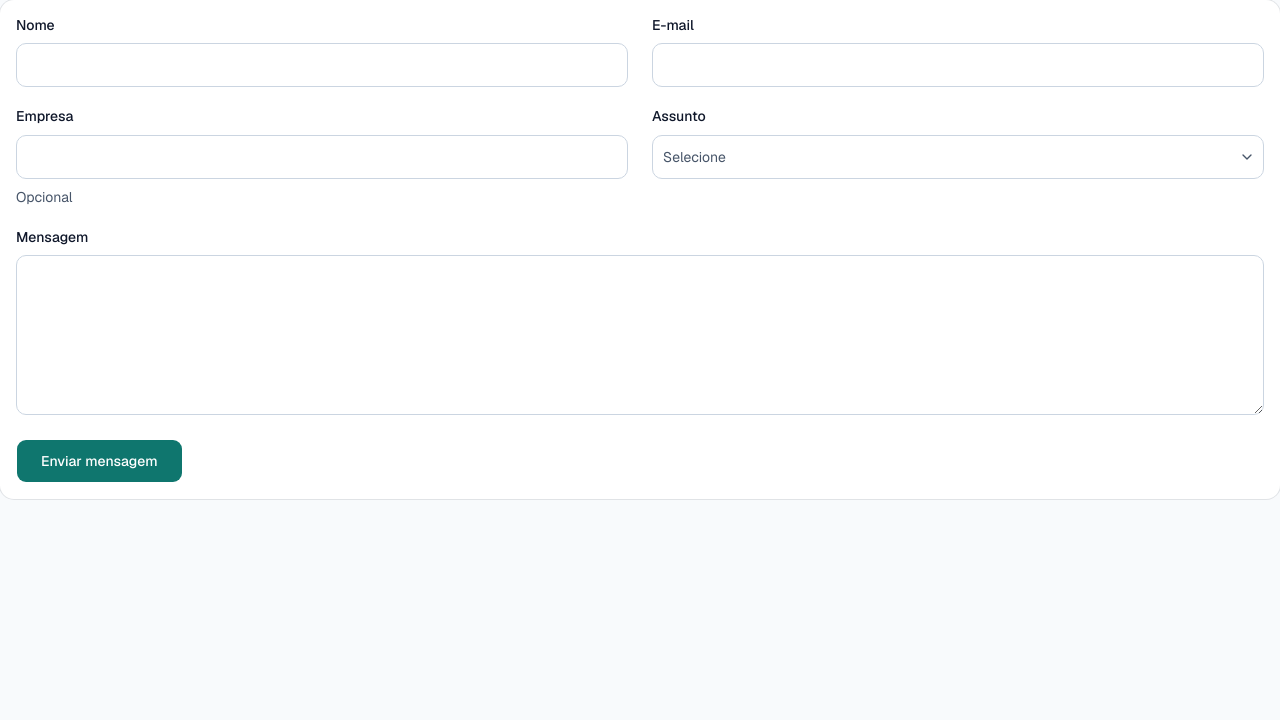
Test: ContactForm › sucesso: troca o formulário pela confirmação
What coordinates should you click on to do the following:
click the button "Enviar mensagem"
I would click on:
 (99, 461)
Its box is [16,439,182,483].
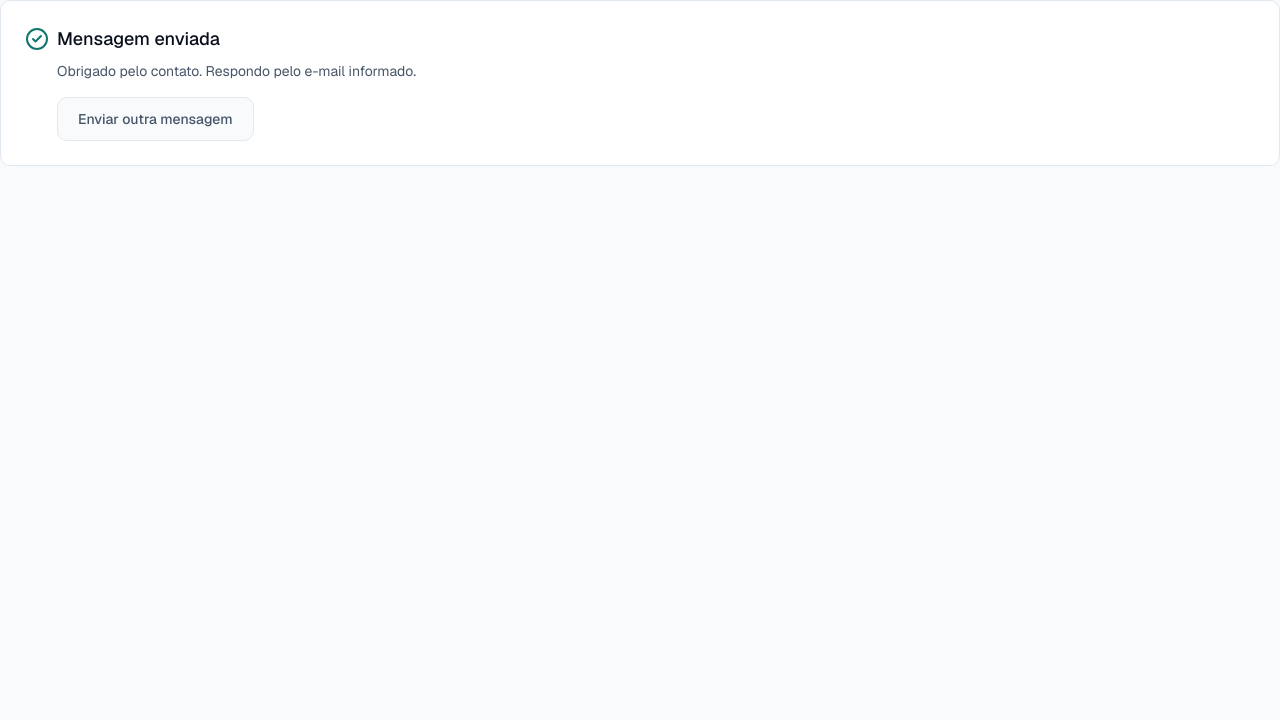
expect the message shows "Mensagem enviada": met, box [57,27,220,50]
expect the button "Enviar outra mensagem" is shown: met, box [57,97,254,141]
expect the label labelled "Nome" is gone: met
